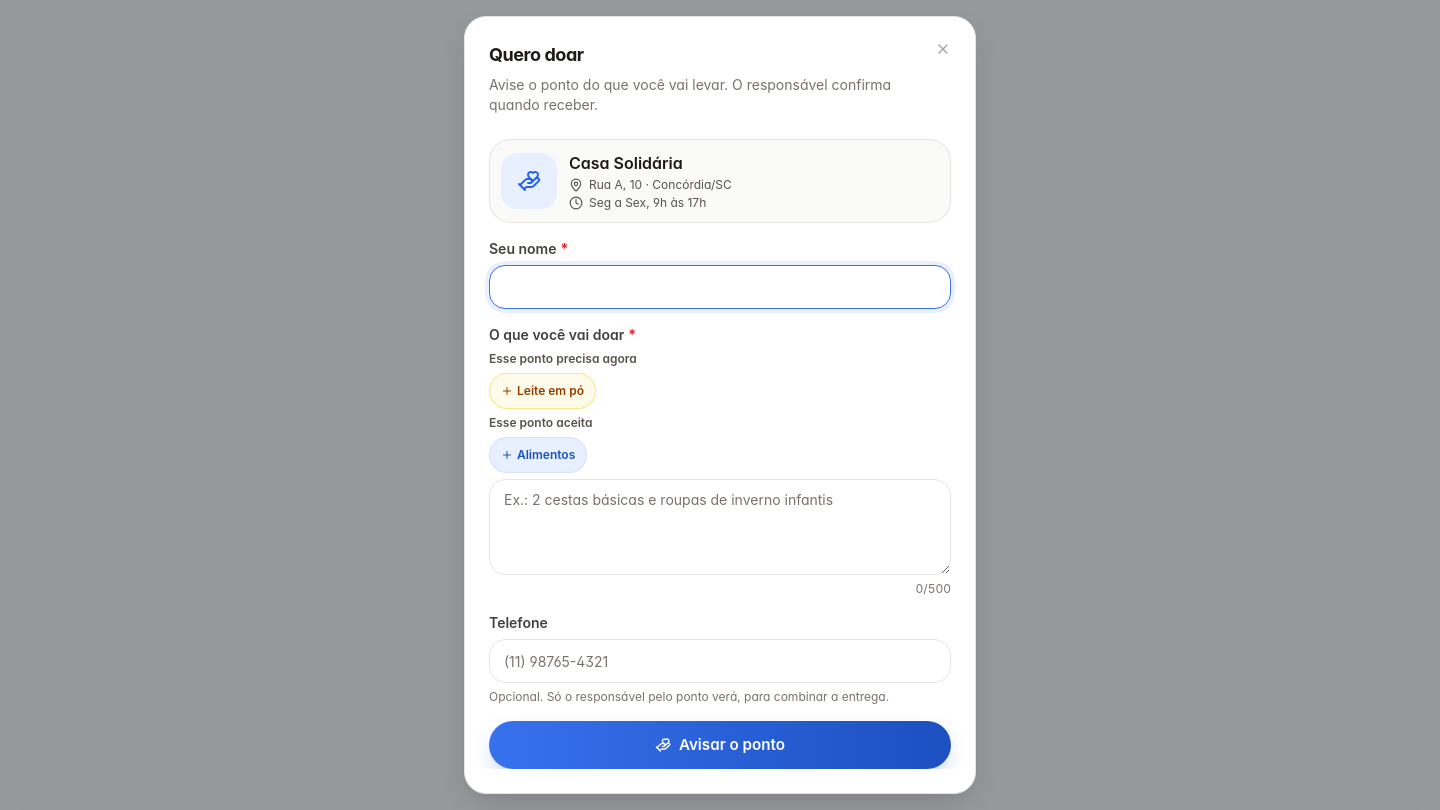
Test case: PledgeDonationModal › preenche a descrição ao tocar numa sugestão do ponto
Click the button with aria-label "adicionar leite em pó": {"x": 542, "y": 391} [489, 373, 596, 409]
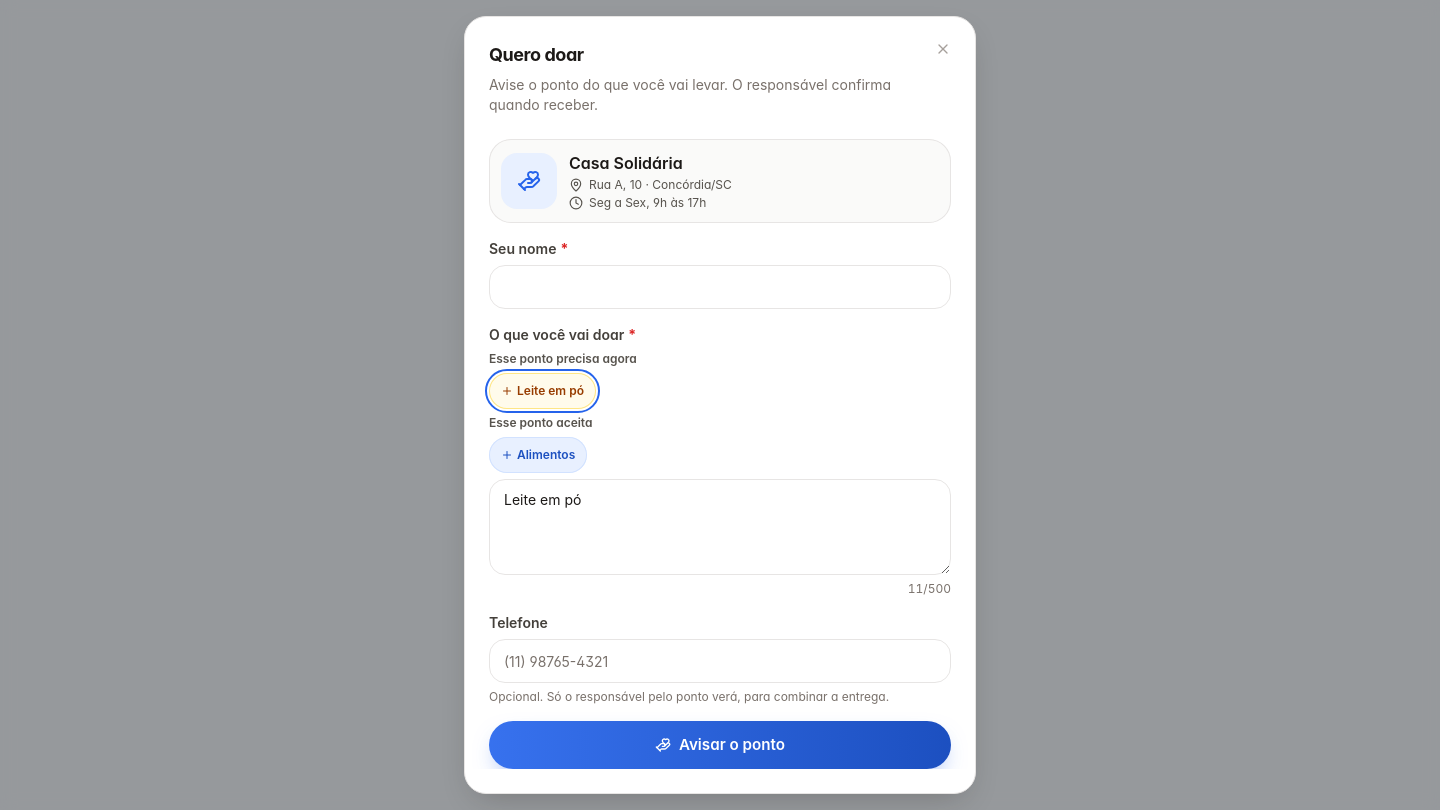
Click the button with aria-label "adicionar alimentos": {"x": 538, "y": 455} [489, 437, 587, 473]
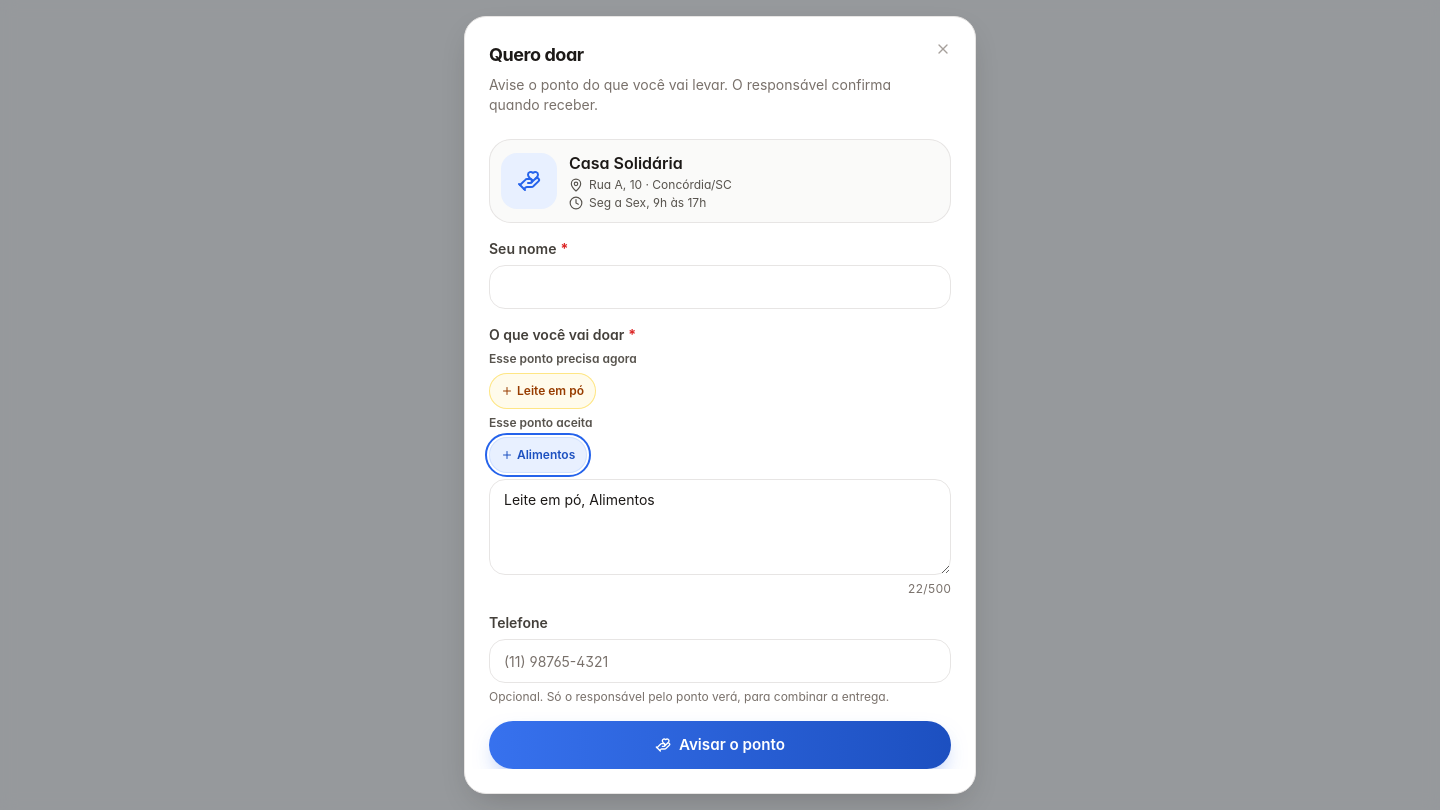
Expected: the text box labelled "O que você vai doar" holds "Leite em pó, Alimentos", [489, 479, 951, 575]
